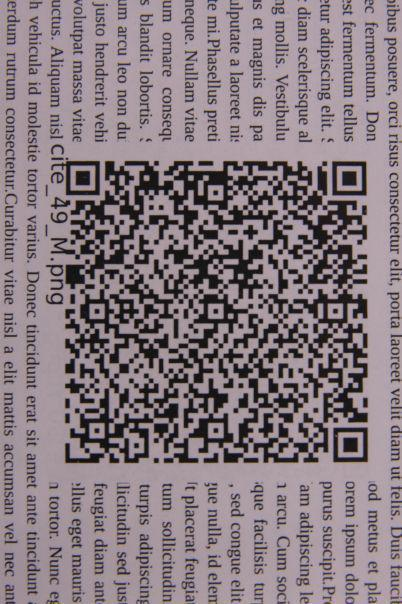qr_code: (65, 160, 369, 463)
